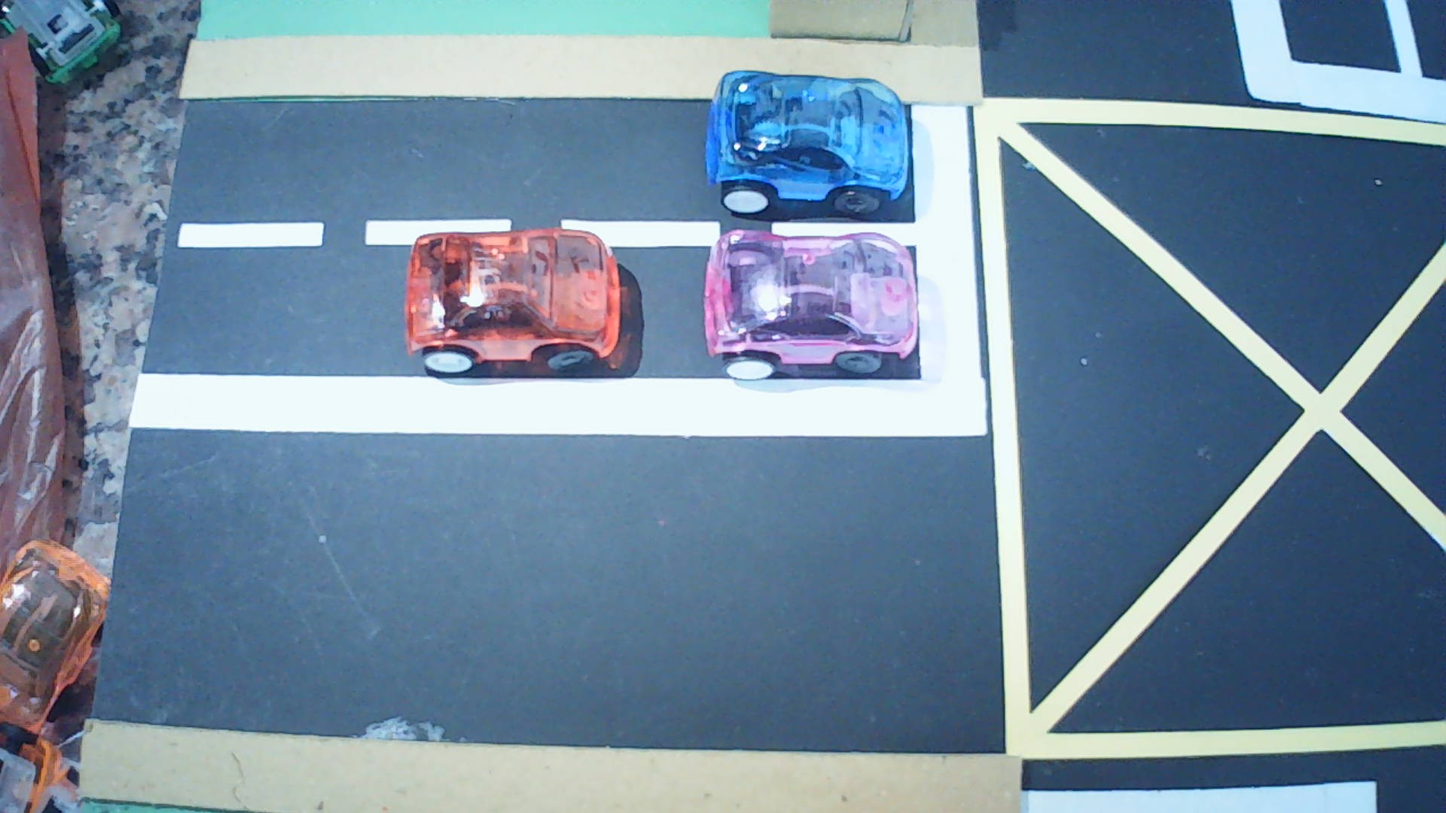Mobil biru: (705, 71, 912, 219)
Mobil merah: (405, 227, 621, 374)
Mobil ungu: (703, 230, 919, 379)
